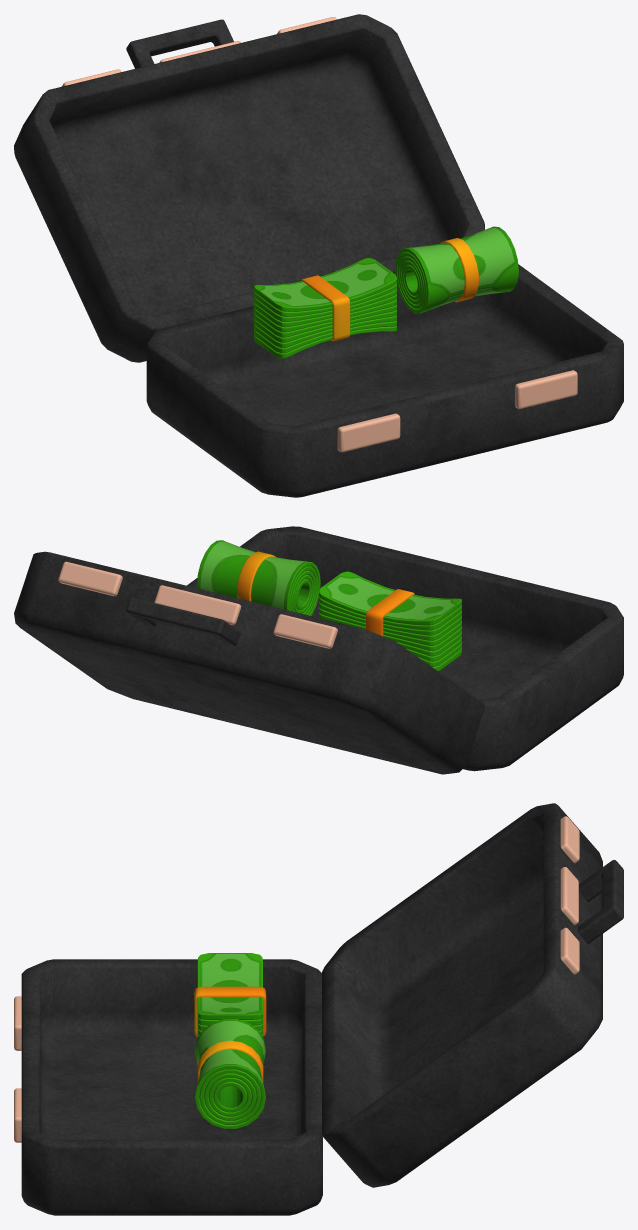
Rendered from level 6.fbx.
3 views of the same model, one above another, from view 1: azimuth 30°, elevation 25°; view 2: azimuth 150°, elevation 25°; view 3: azimuth 270°, elevation 25° (orthographic). The views are drawn at different scales.
Visible parts, largest first — view 1: Box051, Box050, Box057, Cylinder006, Line001, Box052, Box053, Shape002, Shape001; view 2: Box051, Box050, Box057, Cylinder006, Line001, Box056, Box055, Box054, Shape002, Shape001; view 3: Box051, Box050, Cylinder006, Box057, Line001, Shape002, Box056, Box054, Box055, Shape001.
Boxes of the visible parts, x1,y1,x2,y2 form: Box051: (14, 14, 484, 362); Box050: (146, 264, 623, 497); Box057: (254, 258, 396, 358); Cylinder006: (395, 226, 518, 313); Line001: (126, 19, 233, 68); Box052: (337, 413, 400, 452); Box053: (515, 370, 577, 409); Shape002: (301, 275, 350, 341); Shape001: (440, 238, 478, 302); Box051: (14, 551, 484, 774); Box050: (187, 526, 623, 771); Box057: (319, 571, 461, 670); Cylinder006: (197, 540, 320, 615); Line001: (126, 597, 240, 645); Box056: (154, 585, 241, 625); Box055: (58, 561, 122, 596); Box054: (273, 614, 337, 648); Shape002: (365, 589, 414, 636); Shape001: (237, 551, 275, 601); Box051: (322, 803, 602, 1187); Box050: (21, 959, 322, 1215); Cylinder006: (194, 1019, 265, 1128); Box057: (197, 953, 262, 1037); Line001: (578, 860, 623, 943); Shape002: (194, 986, 266, 1037); Box056: (560, 867, 578, 925); Box054: (560, 816, 579, 863); Box055: (560, 927, 579, 974); Shape001: (197, 1040, 263, 1082).
Bounding box in the file's own units: 524 × 315 × 718.
